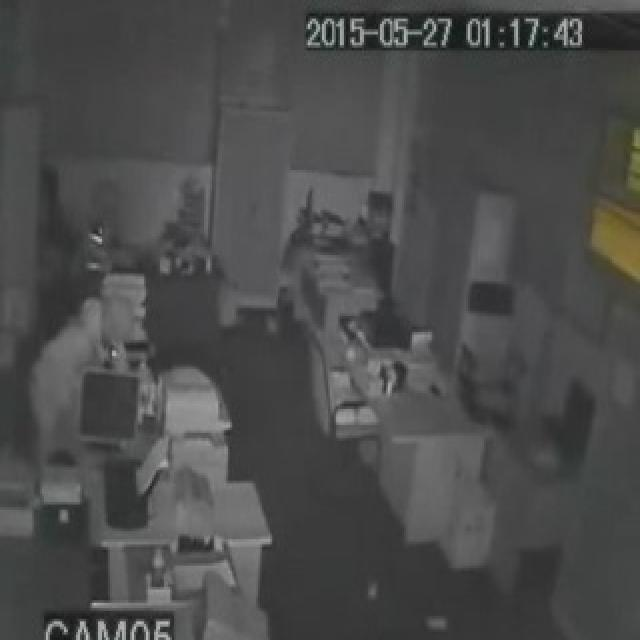thief: (53, 280, 149, 409)
